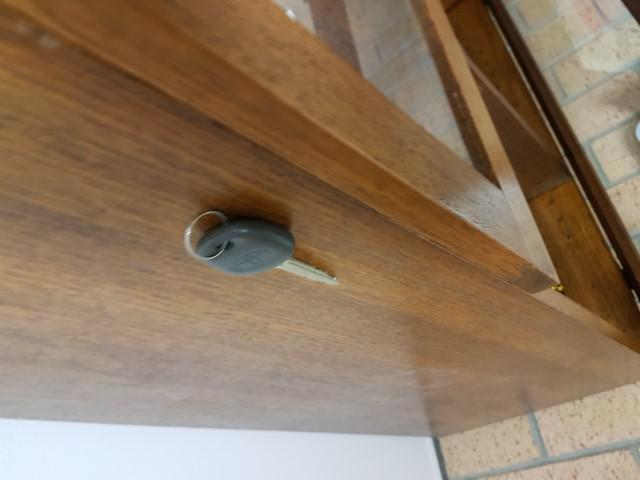key: (198, 218, 340, 286)
